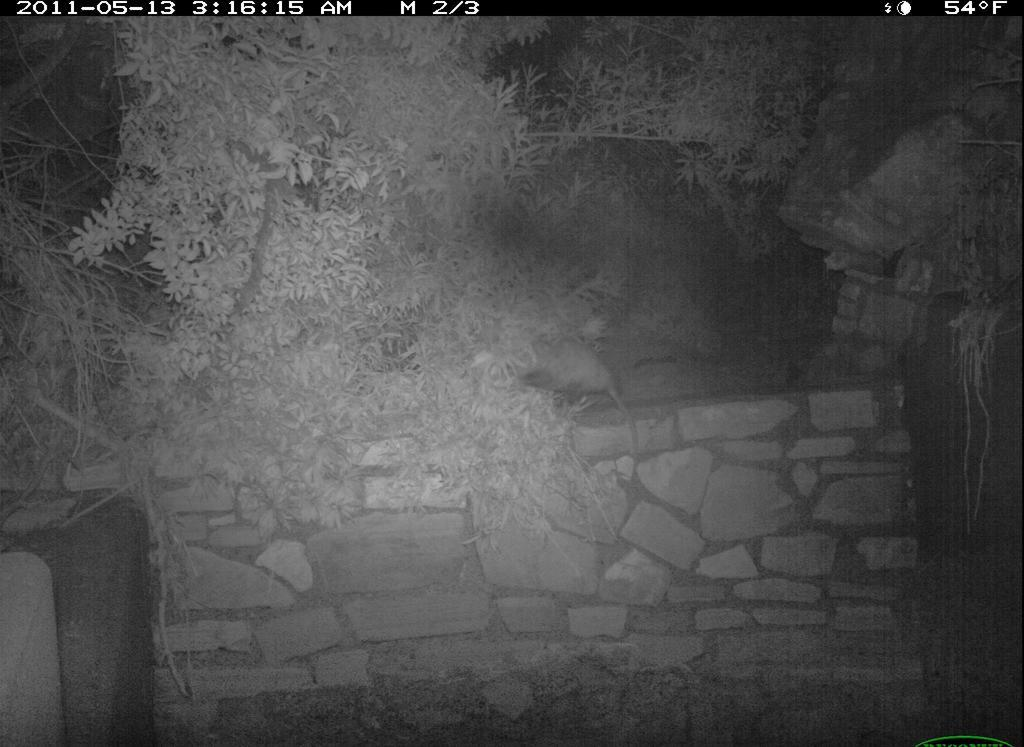opossum: (482, 323, 652, 501)
